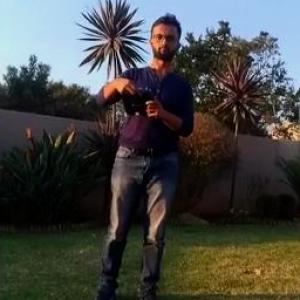follow: (84, 3, 200, 299)
